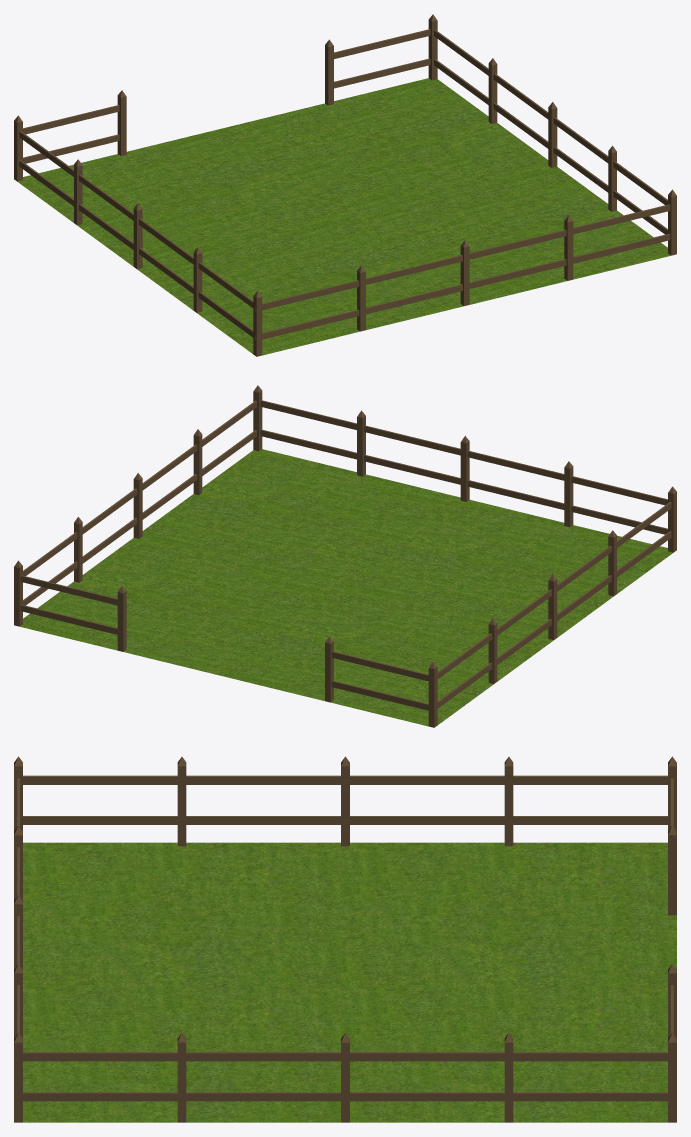
File: region-0.glb
The picture shows the model from 3 angles, top to bottom: view 1: azimuth 30°, elevation 25°; view 2: azimuth 150°, elevation 25°; view 3: azimuth 270°, elevation 25°; orthographic projection. The views are drawn at different scales.
Parts seen in each view (by area): view 1: Plane, Cube.001, Cube.026, Cube.038, Cube.007, Cube.009; view 2: Plane, Cube.001, Cube.026, Cube.038, Cube.007, Cube.009; view 3: Plane, Cube.038, Cube.026, Cube.001, Cube.009, Cube.007.
Part boxes in pixels (bbox=[...]): Plane: bbox=[17, 78, 670, 355]; Cube.001: bbox=[254, 204, 670, 341]; Cube.026: bbox=[14, 115, 262, 356]; Cube.038: bbox=[428, 14, 676, 255]; Cube.007: bbox=[325, 29, 430, 105]; Cube.009: bbox=[23, 90, 126, 163]; Plane: bbox=[20, 449, 673, 726]; Cube.001: bbox=[260, 400, 675, 536]; Cube.026: bbox=[428, 486, 676, 727]; Cube.038: bbox=[14, 385, 262, 626]; Cube.007: bbox=[20, 575, 126, 651]; Cube.009: bbox=[325, 636, 428, 710]; Plane: bbox=[23, 842, 676, 1122]; Cube.038: bbox=[14, 1033, 676, 1122]; Cube.026: bbox=[14, 756, 676, 846]; Cube.001: bbox=[14, 778, 22, 1102]; Cube.009: bbox=[668, 778, 676, 915]; Cube.007: bbox=[668, 964, 676, 1038].
Size of the model in its own units: 7.5 by 1.1 by 7.5.
Materials: 2 (1 with a texture image).
